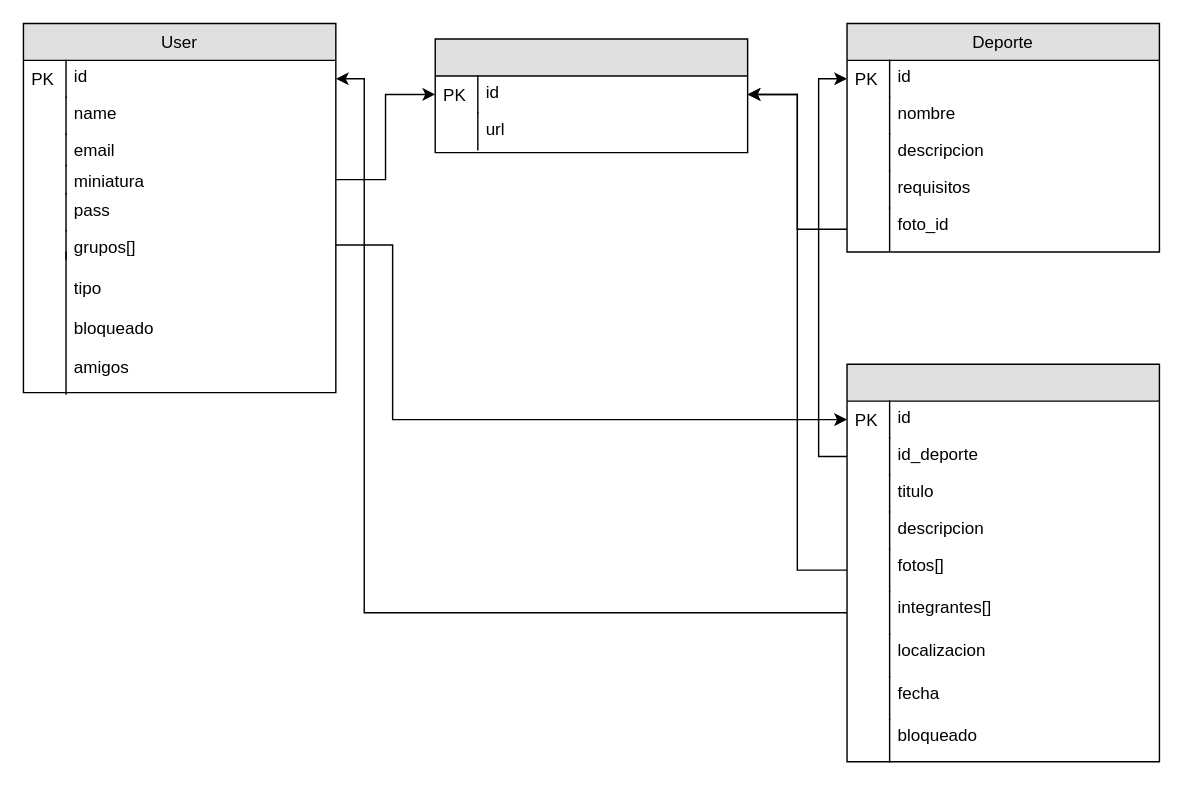
This 1183x785 diagram has some shape labels left out. The box of each missing label's shape, as (x1, y1, x2, y2) in pixels:
Foto: (434, 38, 748, 153)
Grupo: (846, 363, 1159, 762)
